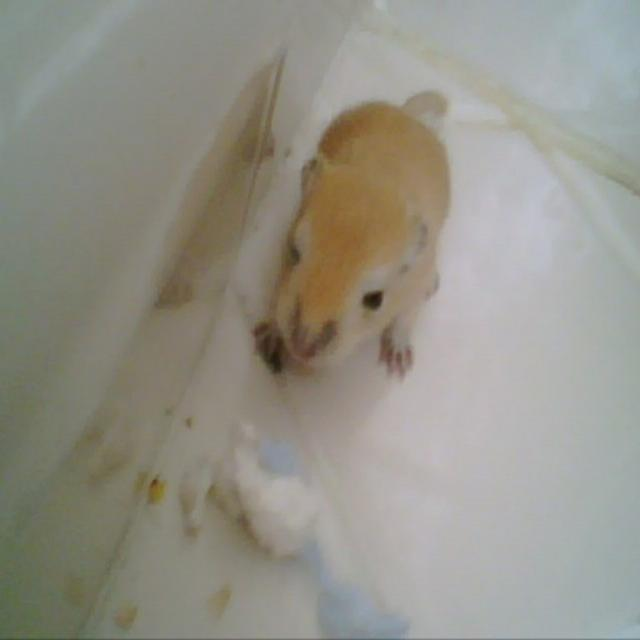rat: (252, 87, 448, 380)
